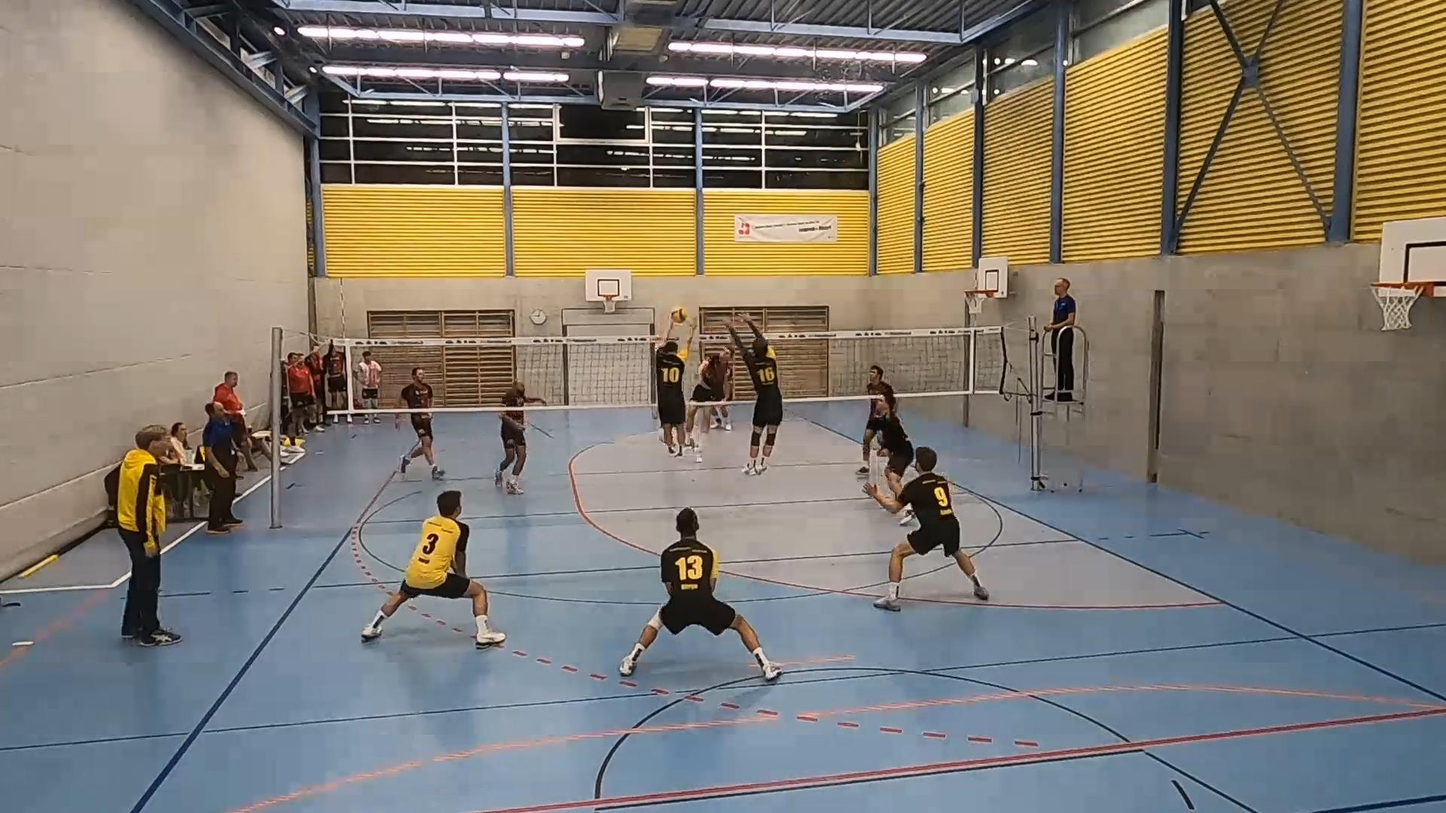attacco: (683, 334, 734, 457)
muro: (714, 313, 785, 475), (642, 320, 699, 462)
